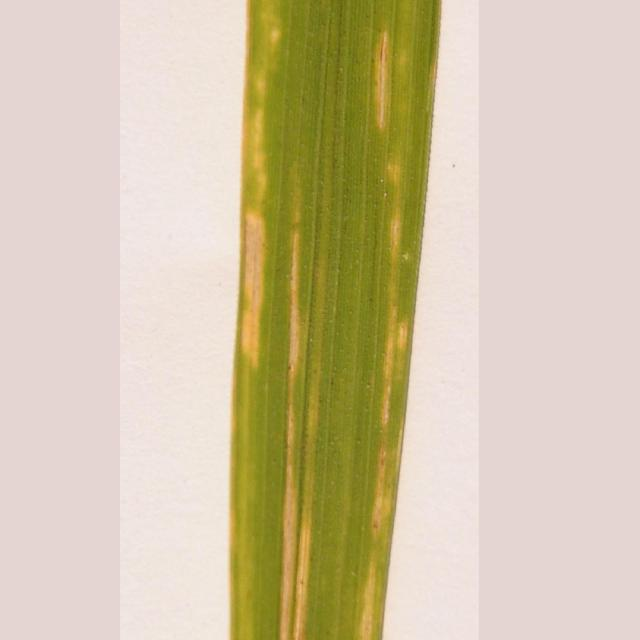Bacterial leaf blight: (266, 198, 345, 640), (234, 0, 308, 380), (352, 12, 404, 133), (366, 412, 396, 545), (378, 307, 414, 379), (378, 217, 414, 276), (360, 564, 392, 629), (374, 157, 406, 196)
